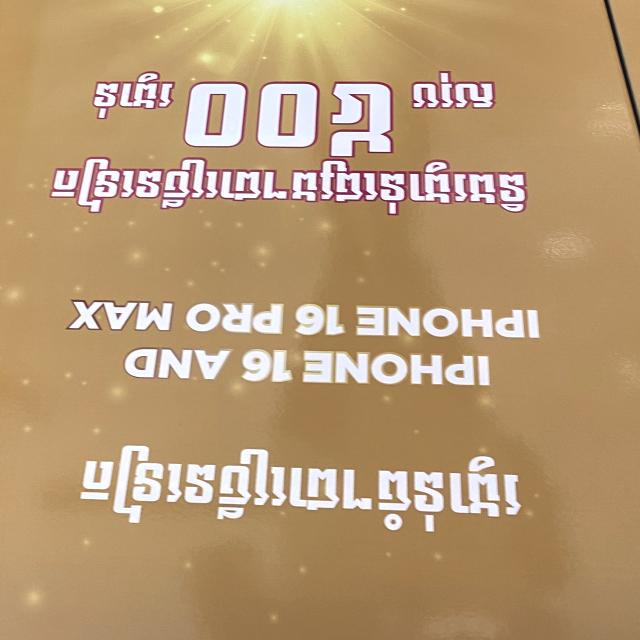598: (237, 344, 296, 390), (293, 299, 348, 340)
Yolov11kh: (68, 434, 534, 539), (43, 153, 536, 223), (175, 69, 404, 163), (90, 70, 177, 126), (402, 70, 498, 115)
